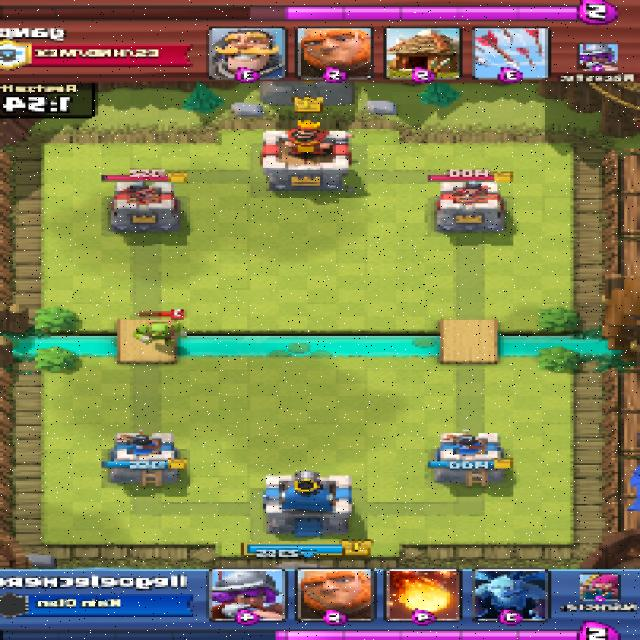Player-GoblinCage: (130, 319, 192, 345)
